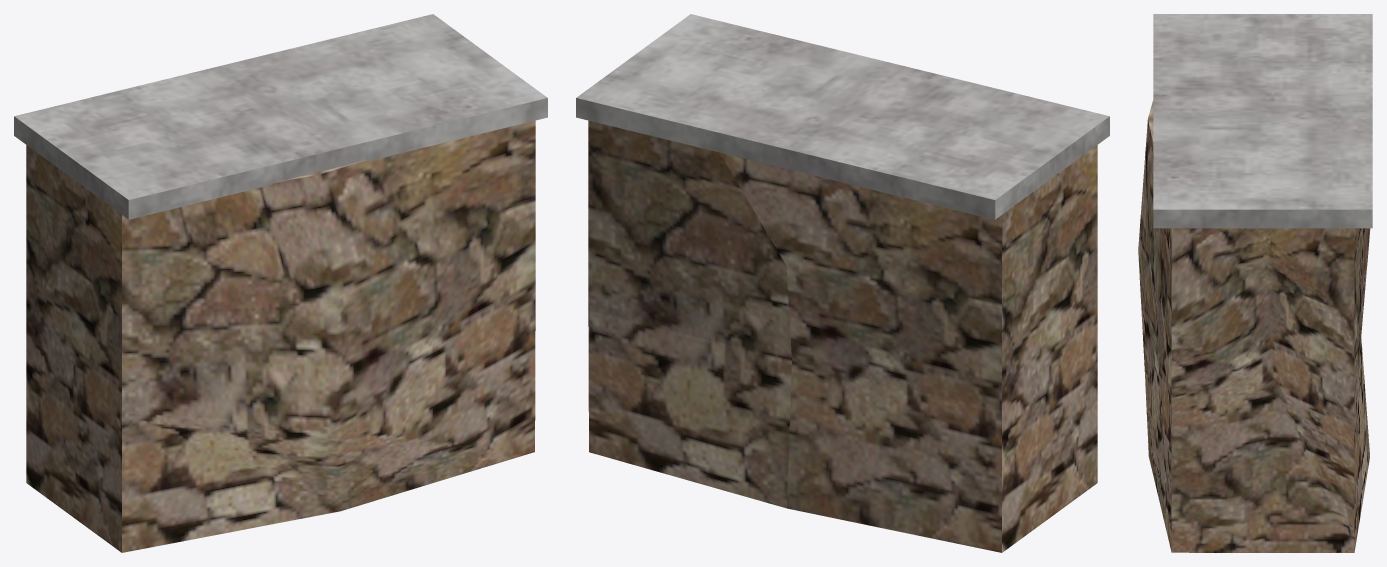
Rendered from drystone_wall_half_capped.fbx.
The picture shows the model from 3 angles, left to right: view 1: azimuth 30°, elevation 25°; view 2: azimuth 150°, elevation 25°; view 3: azimuth 270°, elevation 25°; orthographic projection. The views are drawn at different scales.
Parts seen in each view (by area): view 1: drystone_wall_half_capped; view 2: drystone_wall_half_capped; view 3: drystone_wall_half_capped.
Boxes of the visible parts, x1,y1,x2,y2 form: drystone_wall_half_capped: (14, 14, 547, 552); drystone_wall_half_capped: (576, 14, 1109, 552); drystone_wall_half_capped: (1138, 14, 1372, 552).
Bounding box in the file's own units: 101 × 83.28 × 51.33.
2 materials, 2 textured.
